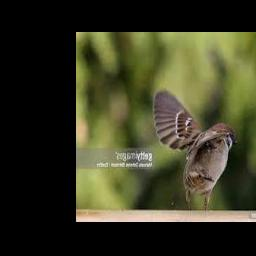Sparrow: (153, 88, 240, 211)
